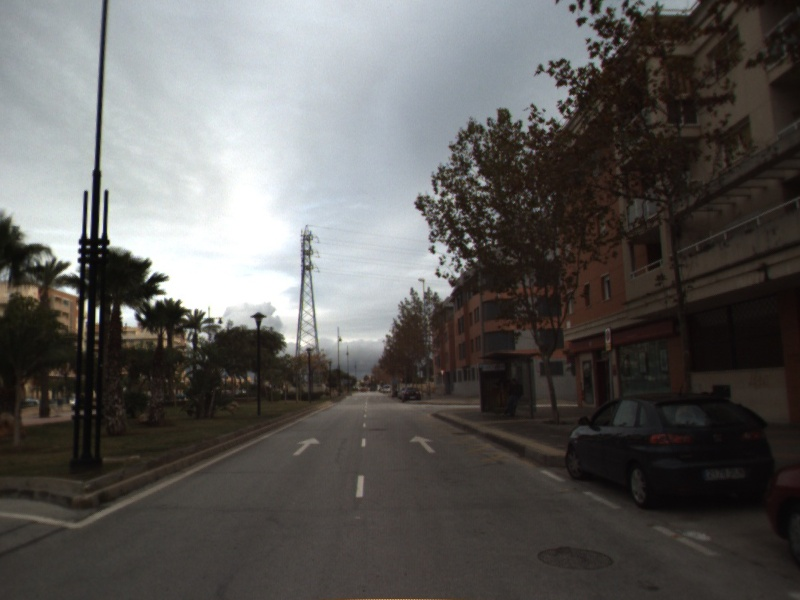STRAIGHT: (291, 435, 322, 457), (407, 433, 438, 454)
